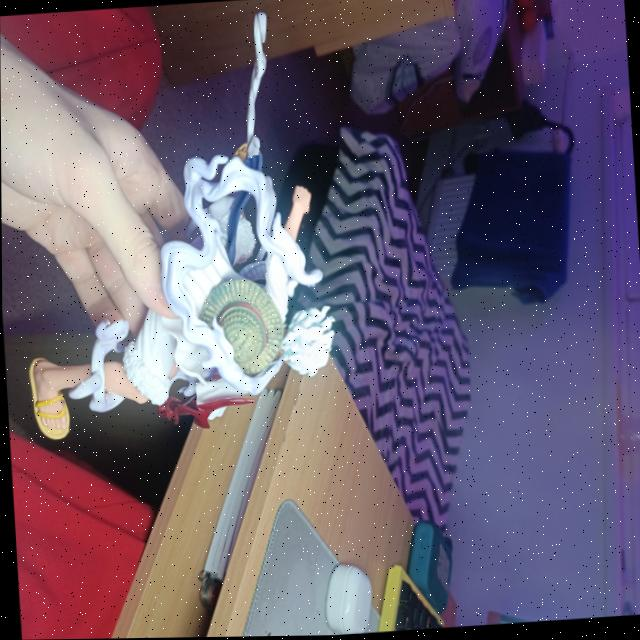luffy: (0, 0, 346, 447)
